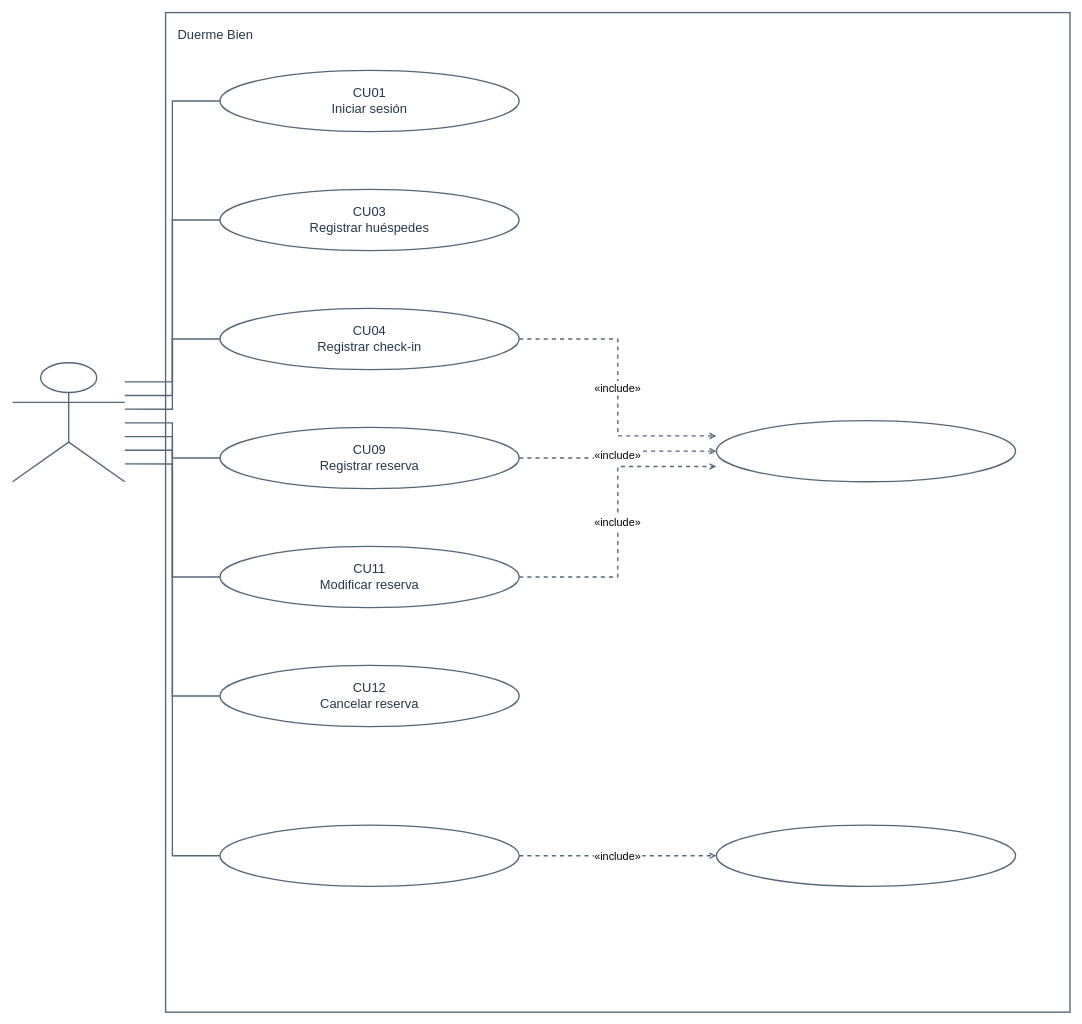
The diagram is 1082 pixels wide and 1024 high, and some of its shapes have lost their labels. The shapes that lost their labels are listed below. From the top down, each one's box as (x1, y1, x2, y2) in pixels, then its label:
(12, 362, 125, 482): Encargado
(715, 420, 1016, 482): CU05 Consultar disponibilidad
(219, 824, 520, 887): CU06 Registrar check-out
(715, 824, 1016, 887): CU07 Calcular cuenta por pasajero
